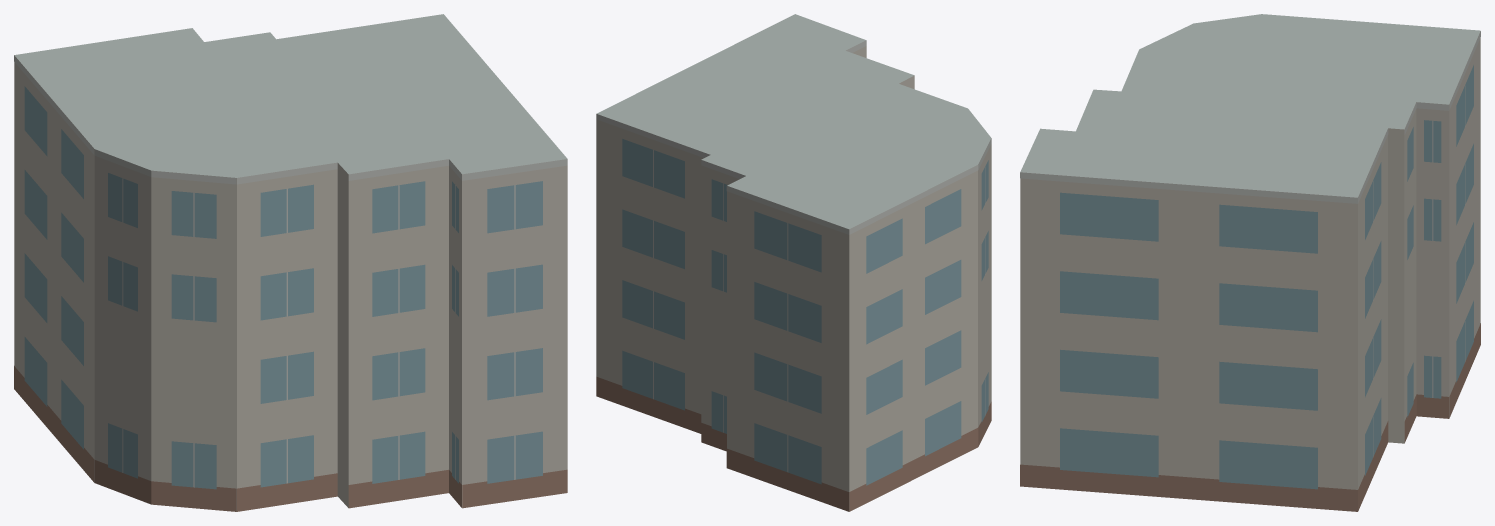
Rendered from survey-upis-32658075.glb.
3 views of the same model, side by side, from view 1: azimuth 30°, elevation 25°; view 2: azimuth 150°, elevation 25°; view 3: azimuth 270°, elevation 25° (orthographic). The views are drawn at different scales.
Parts seen in each view (by area): view 1: survey-upis-32658075.tmp; view 2: survey-upis-32658075.tmp; view 3: survey-upis-32658075.tmp.
Part boxes in pixels (x1=…): survey-upis-32658075.tmp: x1=14, y1=14, x2=567, y2=511; survey-upis-32658075.tmp: x1=596, y1=14, x2=991, y2=511; survey-upis-32658075.tmp: x1=1020, y1=14, x2=1480, y2=511.
Bounding box in the file's own units: 15.5 × 12.35 × 16.42.
